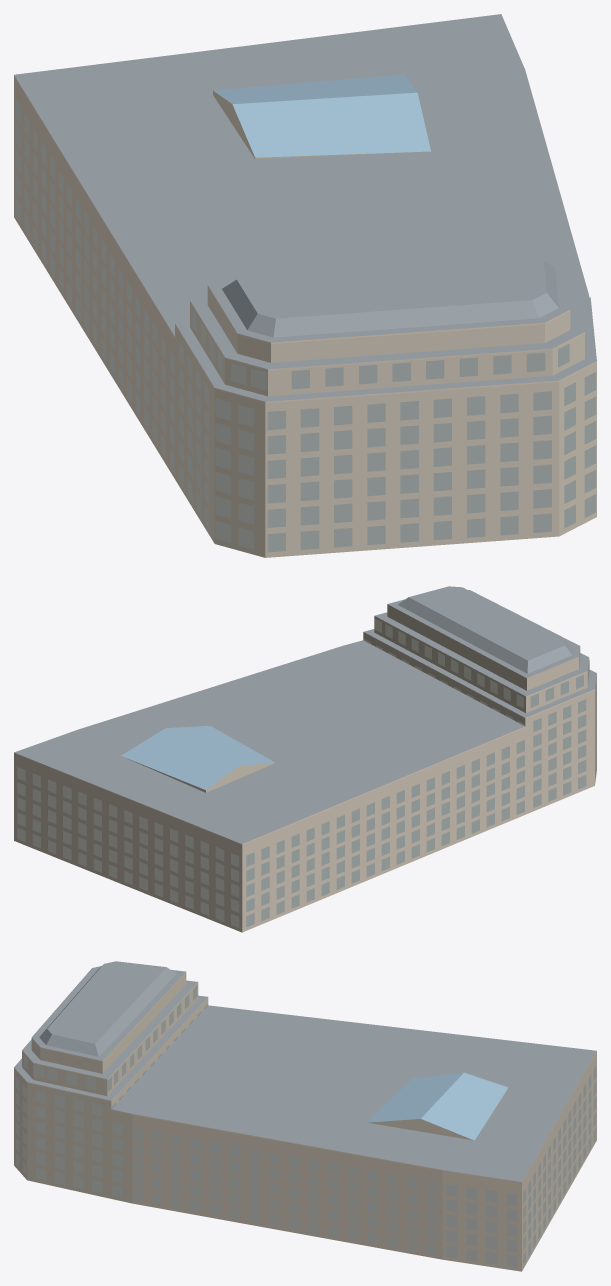
The model's file is detail.glb.
3 renders of one model, top to bottom at view 1: azimuth 30°, elevation 25°; view 2: azimuth 150°, elevation 25°; view 3: azimuth 270°, elevation 25°, orthographic. The views are drawn at different scales.
Visible parts, largest first — view 1: roof, stone, window, glass, trim; view 2: roof, stone, window, glass, trim; view 3: roof, stone, window, glass, trim.
Part boxes in pixels (left/top/right/bottom): roof: left=14, top=14, right=596, bottom=401; stone: left=14, top=75, right=596, bottom=557; window: left=16, top=100, right=596, bottom=552; glass: left=213, top=74, right=430, bottom=157; trim: left=14, top=75, right=596, bottom=402; roof: left=14, top=586, right=596, bottom=843; stone: left=14, top=604, right=596, bottom=932; window: left=17, top=618, right=596, bottom=927; glass: left=121, top=726, right=274, bottom=789; trim: left=14, top=605, right=596, bottom=844; roof: left=14, top=961, right=596, bottom=1181; stone: left=14, top=973, right=596, bottom=1271; window: left=15, top=985, right=596, bottom=1267; glass: left=367, top=1072, right=508, bottom=1140; trim: left=14, top=972, right=596, bottom=1182.
Size of the model in its own units: 94.32 by 32 by 124.
